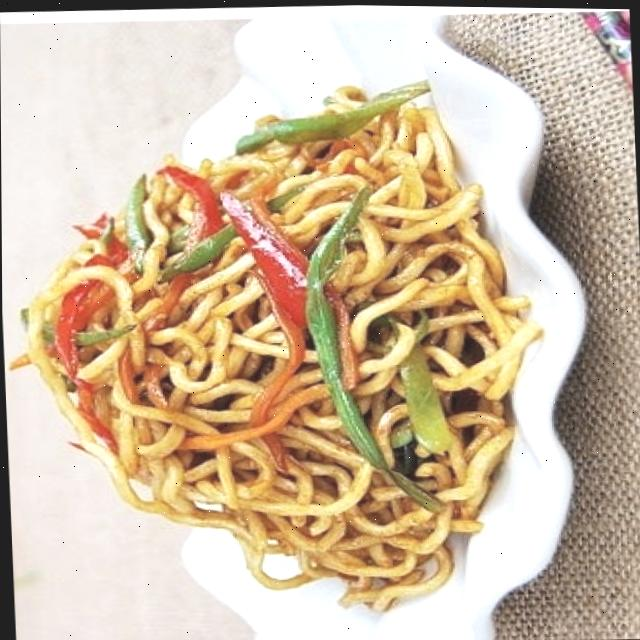面条主食: (25, 74, 588, 598)
